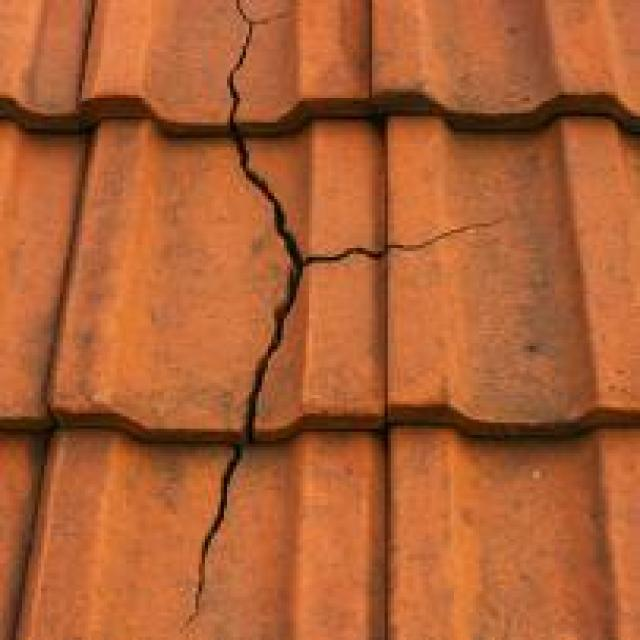fissure: (166, 0, 510, 636)
